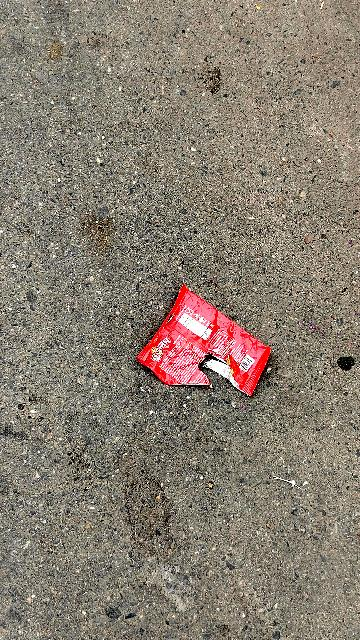packet: (132, 279, 283, 422)
